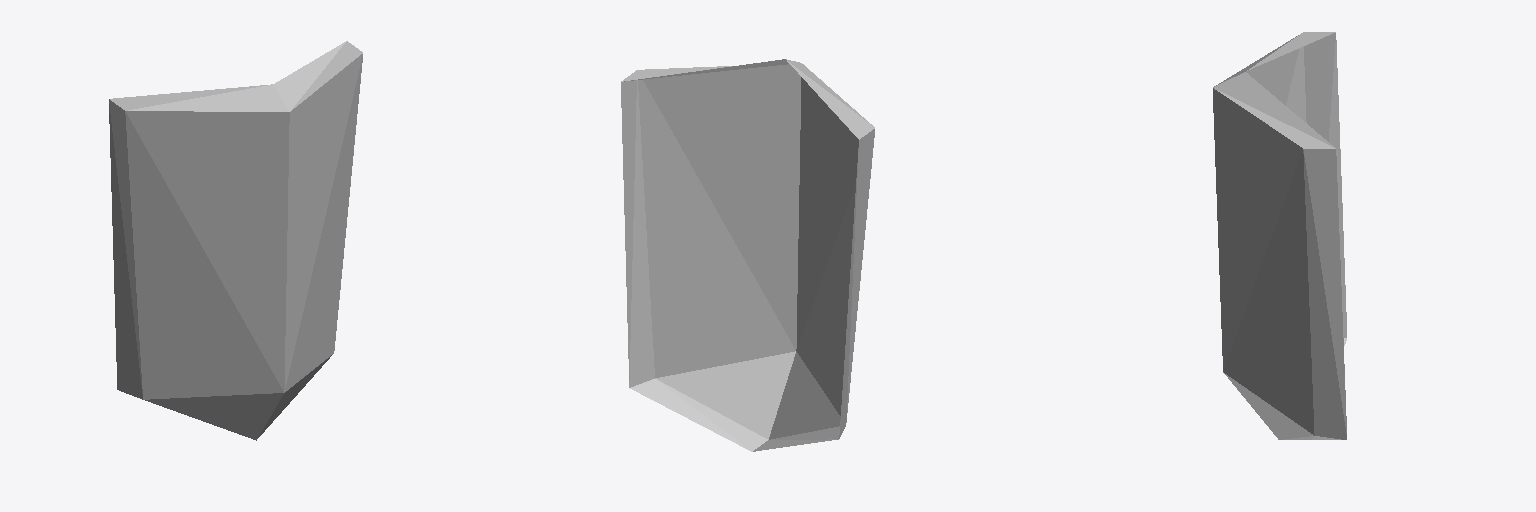
The model's file is antigas.obj.
The picture shows the model from 3 angles: view 1: azimuth 30°, elevation 25°; view 2: azimuth 150°, elevation 25°; view 3: azimuth 270°, elevation 25°; orthographic projection.
Size of the model in its own units: 0.1876 by 0.2774 by 0.092.